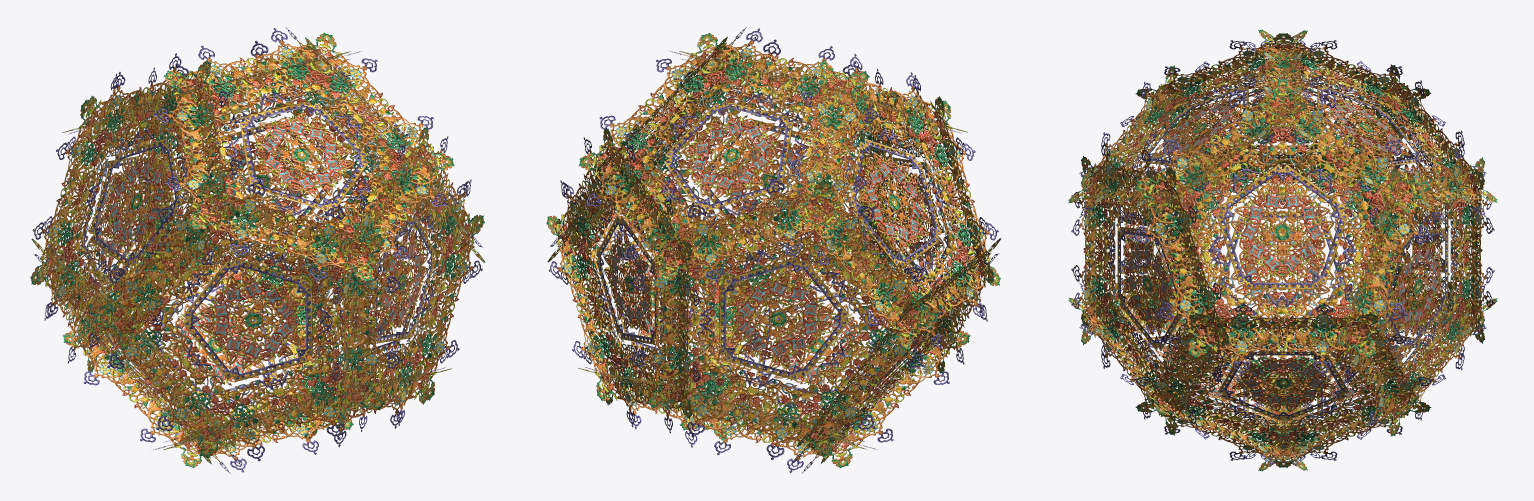
File: 1GreatDitrigonalDodecicosidodecahedron.gltf
3 renders of one model, left to right at view 1: azimuth 30°, elevation 25°; view 2: azimuth 150°, elevation 25°; view 3: azimuth 270°, elevation 25°, orthographic. The views are drawn at different scales.
Parts seen in each view (by area): view 1: GreatDitrigonalDodecicosidodecahedron8; view 2: GreatDitrigonalDodecicosidodecahedron8; view 3: GreatDitrigonalDodecicosidodecahedron8.
Part boxes in pixels (box(x1,y1,x2,y2)): GreatDitrigonalDodecicosidodecahedron8: box(30, 27, 485, 473); GreatDitrigonalDodecicosidodecahedron8: box(546, 27, 1001, 473); GreatDitrigonalDodecicosidodecahedron8: box(1068, 29, 1497, 471).
Size of the model in its own units: 2.24 by 2.24 by 2.24.
Materials: 1 (1 with a texture image).
